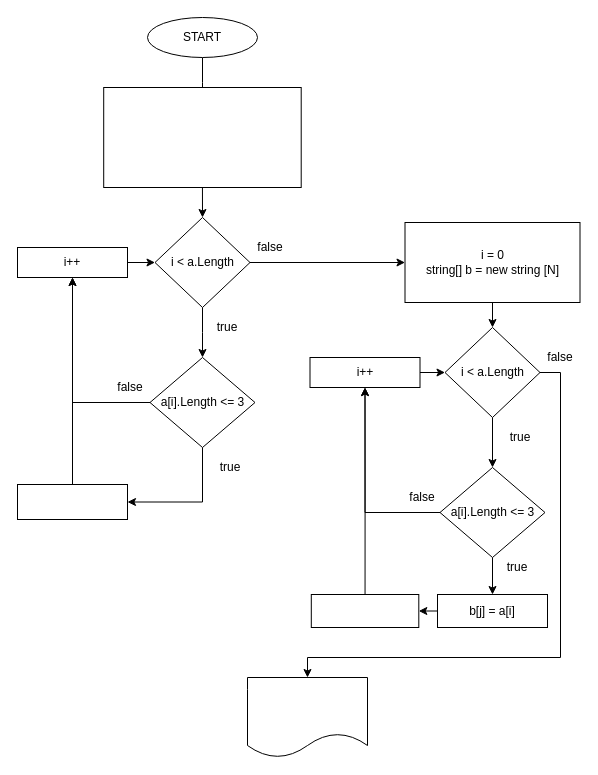
This 598x775 diagram has some shape labels left out. Each missing label, with the centre of its shape:
j++: point 364,611
N ++;: point 72,502
PrintArray(b): point 307,717
string[] a = ["hello", "2", "world", ":-)"] i = 0 j = 0 N = 0: point 202,137
